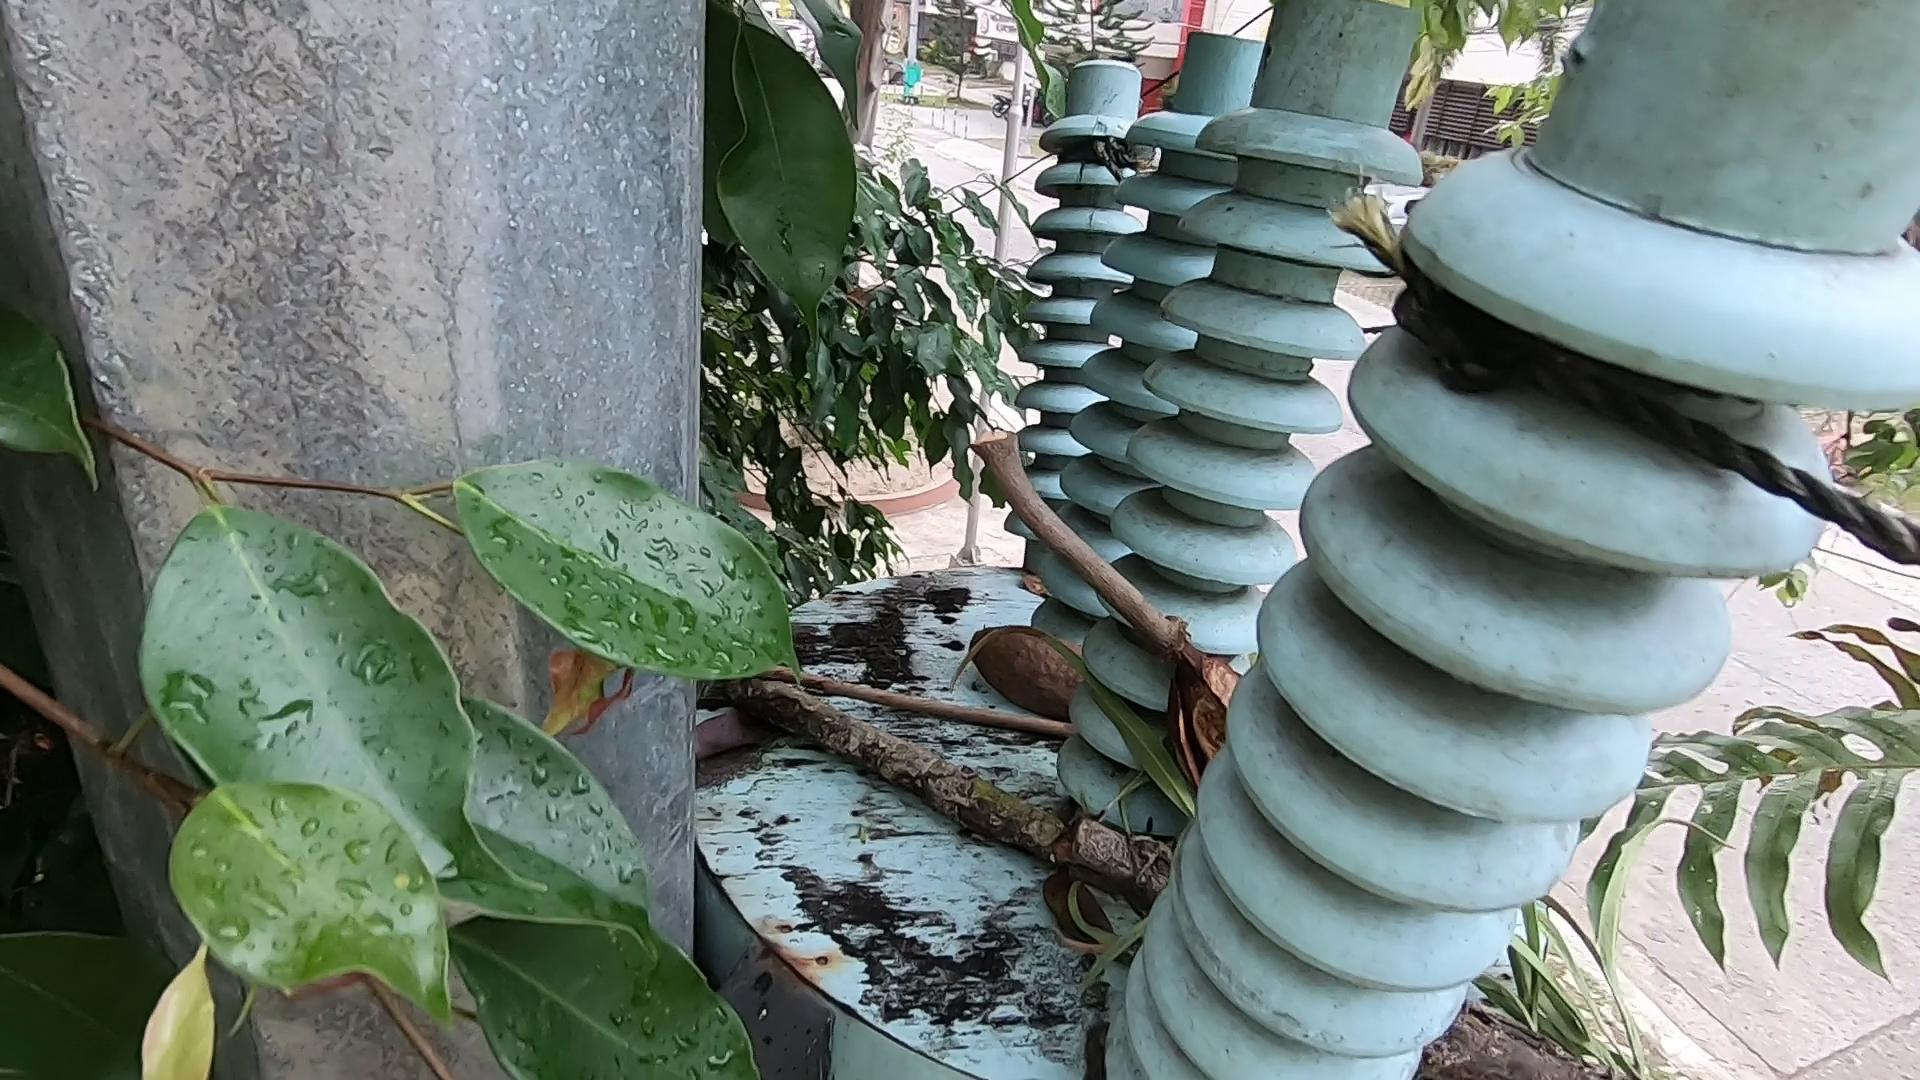branch with leaves: (724, 659, 1568, 1073)
leaf: (956, 617, 1197, 837), (1491, 882, 1662, 1073), (1054, 847, 1108, 959)
mahogany fruit: (1141, 649, 1278, 800), (972, 611, 1101, 752)
tree branch: (986, 434, 1195, 674), (746, 655, 1091, 740)
